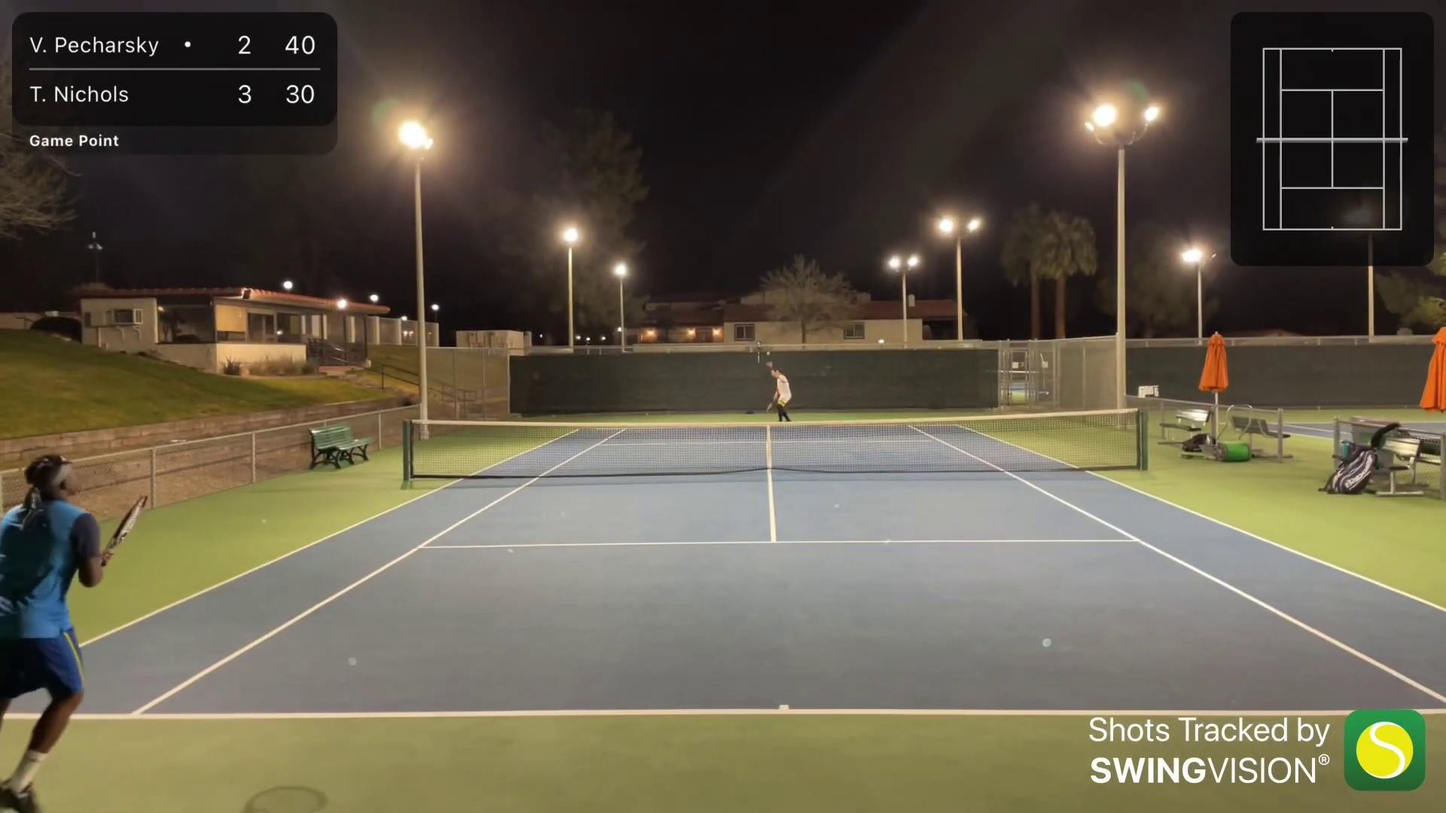ball: (767, 350, 772, 356)
